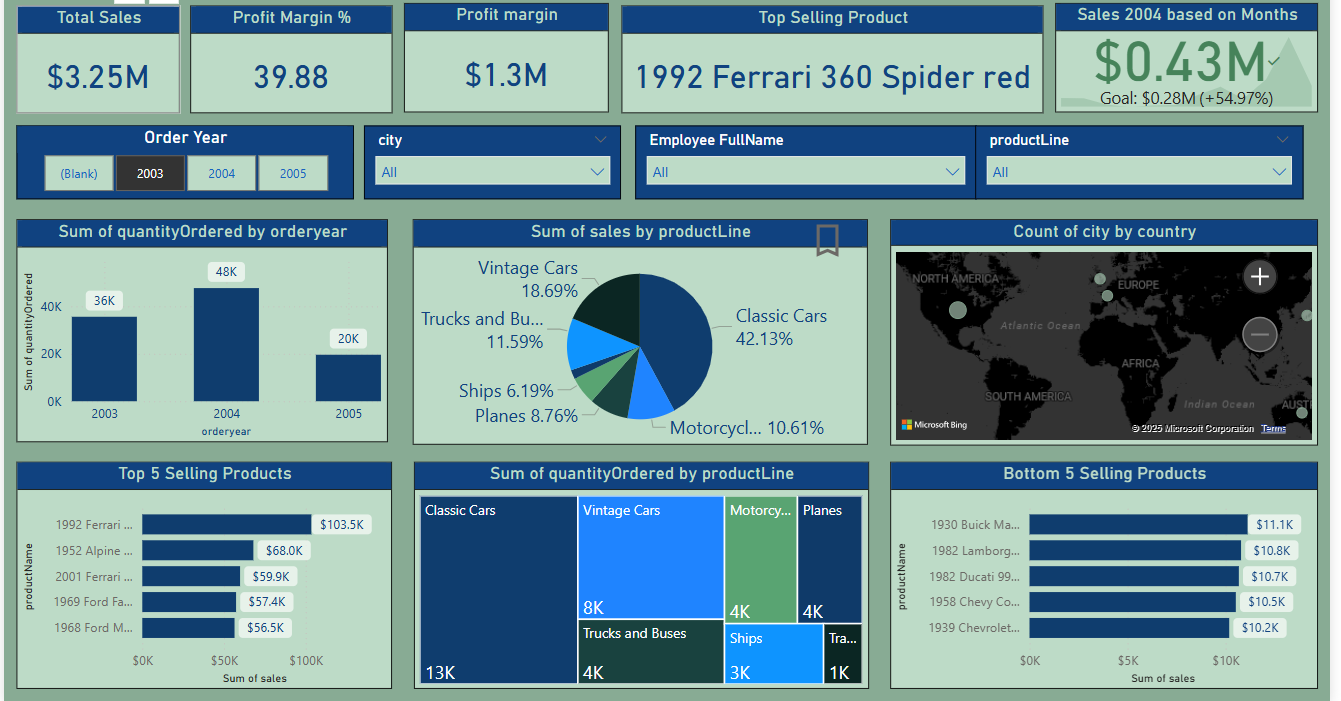

The page's visual inventory and layout, read from the dashboard file:
{"tool":"powerbi","page":{"name":"Page 1","canvas":[1280,720],"ordinal":0},"visuals":[{"type":"card","title":"Profit margin","fields":{"Values":["order details.total_profit"]},"box":[385.6,43.9,197.6,105.7],"z":0},{"type":"barChart","title":"Top 5 Selling Products","fields":{"Category":["products.productName"],"Y":["Sum(order details.sales)"]},"box":[12.3,485.8,362.3,219.6],"z":1000},{"type":"pieChart","fields":{"Y":["Sum(order details.sales)"],"Series":["products.productLine"]},"box":[394.9,251.9,439.1,217.9],"z":2000},{"type":"card","title":"Top Selling Product","fields":{"Values":["order details.MostOrderedProductName"]},"box":[595.5,45.3,407.5,104.3],"z":3000},{"type":"map","fields":{"Category":["office.country"],"Size":["CountNonNull(office.city)"]},"box":[854.9,252.5,413,218.2],"z":4000},{"type":"kpi","title":"Sales 2004 based on Months","fields":{"TrendLine":["orders.Month Name"],"Indicator":["orders.sales_2004"],"Goal":["orders.sales_2003"]},"box":[1014.1,43.9,253.9,105.7],"z":5000},{"type":"treemap","fields":{"Group":["productlines.productLine"],"Values":["Sum(order details.quantityOrdered)"]},"box":[395.2,485.8,439.1,219.6],"z":6000},{"type":"clusteredColumnChart","fields":{"Category":["orders.orderyear"],"Y":["Sum(order details.quantityOrdered)"]},"box":[12.3,252.5,358.1,215.4],"z":7000},{"type":"card","title":"Profit Margin %","fields":{"Values":["classic_models_dataset.Profit_Margin_%"]},"box":[179.8,45.3,194.9,104.3],"z":8000},{"type":"card","title":"Total Sales","fields":{"Values":["Sum(order details.sales)"]},"box":[12.3,45.3,157.8,104.3],"z":9000},{"type":"slicer","title":"Order Year","fields":{"Values":["orders.orderyear"]},"box":[12.3,161.9,325.2,71.4],"z":10000},{"type":"slicer","fields":{"Values":["office.city"]},"box":[347.2,161.9,248.4,71.4],"z":11000},{"type":"slicer","fields":{"Values":["employee.Employee FullName"]},"box":[609.3,161.9,329.3,71.4],"z":12000},{"type":"slicer","fields":{"Values":["productlines.productLine"]},"box":[937.9,161.7,316.6,71.5],"z":13000},{"type":"barChart","title":" Bottom 5 Selling Products","fields":{"Category":["products.productName"],"Y":["Sum(order details.sales)"]},"box":[854.9,485.8,413,219.6],"z":14000},{"type":"actionButton","box":[0,0,100,40],"z":15000},{"type":"actionButton","box":[0,0,100,40],"z":16000},{"type":"actionButton","box":[774.5,251.9,52.8,40.9],"z":17000}]}

Visuals, with their boxes in screenshot pixels (x1, y1, x2, y2):
"Profit margin" card: select_region(402, 0, 606, 109)
"Top 5 Selling Products" barChart: select_region(16, 457, 391, 684)
pieChart - Sum(order details.sales) x products.productLine: select_region(412, 215, 865, 440)
"Top Selling Product" card: select_region(619, 1, 1040, 109)
map - office.country x CountNonNull(office.city): select_region(887, 216, 1314, 441)
"Sales 2004 based on Months" kpi: select_region(1051, 0, 1314, 109)
treemap - productlines.productLine x Sum(order details.quantityOrdered): select_region(412, 457, 866, 684)
clusteredColumnChart - orders.orderyear x Sum(order details.quantityOrdered): select_region(16, 216, 386, 438)
"Profit Margin %" card: select_region(189, 1, 391, 109)
"Total Sales" card: select_region(16, 1, 179, 109)
"Order Year" slicer: select_region(16, 122, 352, 196)
slicer - office.city: select_region(362, 122, 619, 196)
slicer - employee.Employee FullName: select_region(633, 122, 973, 196)
slicer - productlines.productLine: select_region(973, 122, 1300, 196)
" Bottom 5 Selling Products" barChart: select_region(887, 457, 1314, 684)
actionButton: select_region(804, 215, 858, 257)
